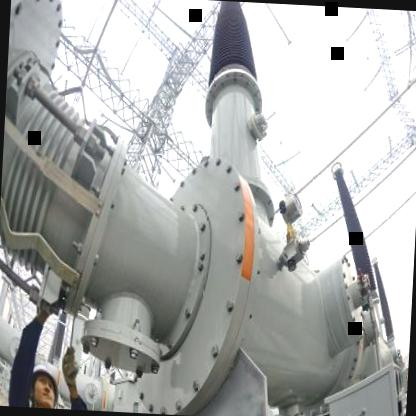helmet: (28, 350, 64, 408)
